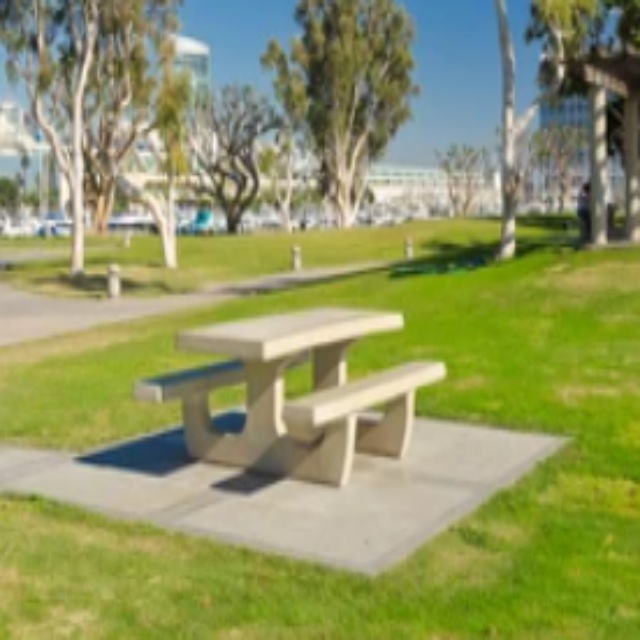obstacle: (134, 301, 445, 501)
